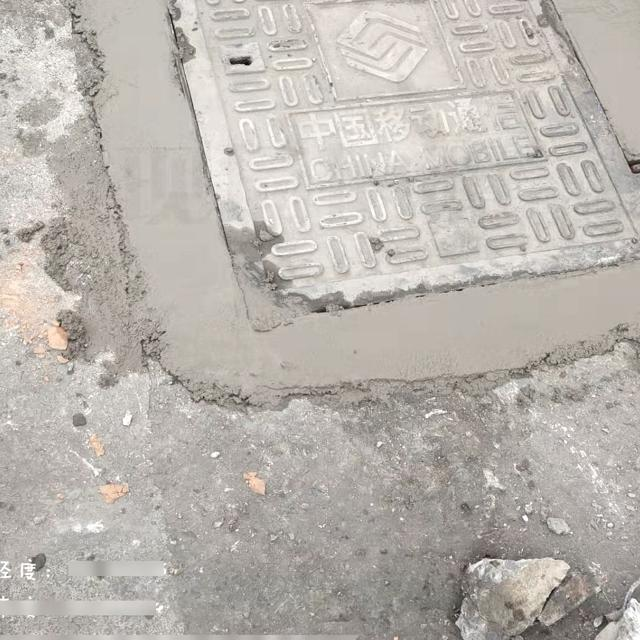good: (133, 0, 640, 329)
